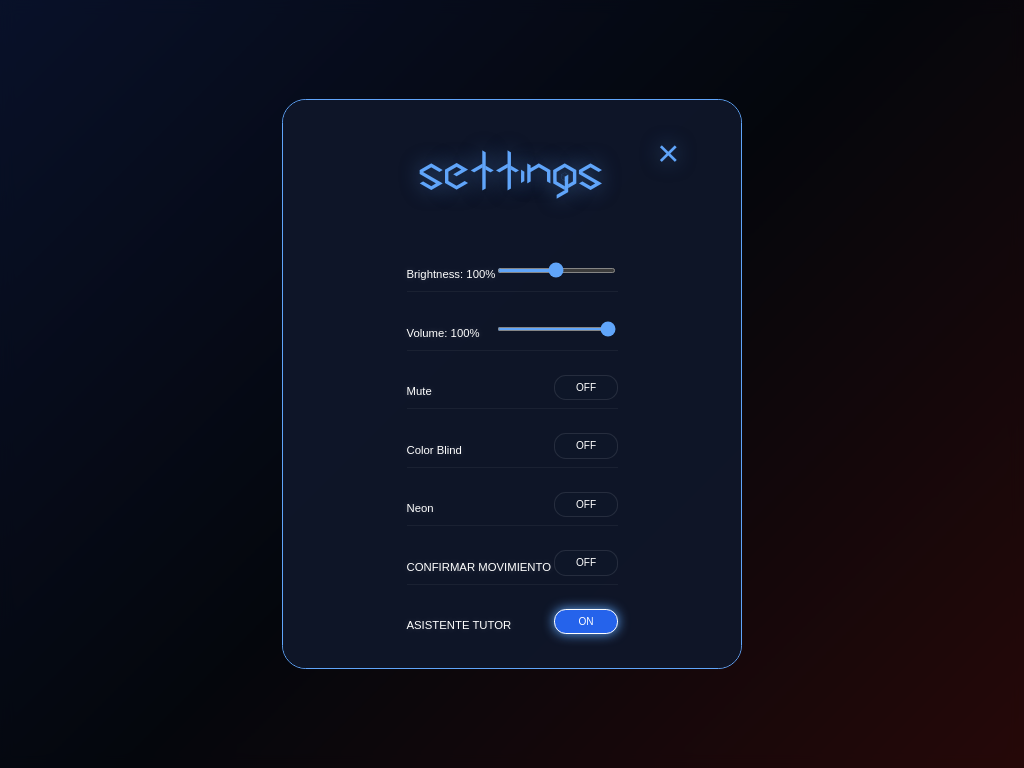
Test: SettingsModal › TEST 4: mute button toggles and disables volume slider
Note: Click to toggle Mute ON
What coordinates should you click on to do the following:
click the 1st button "OFF"
I would click on:
 (586, 387)
Its box is [554,375,618,400].
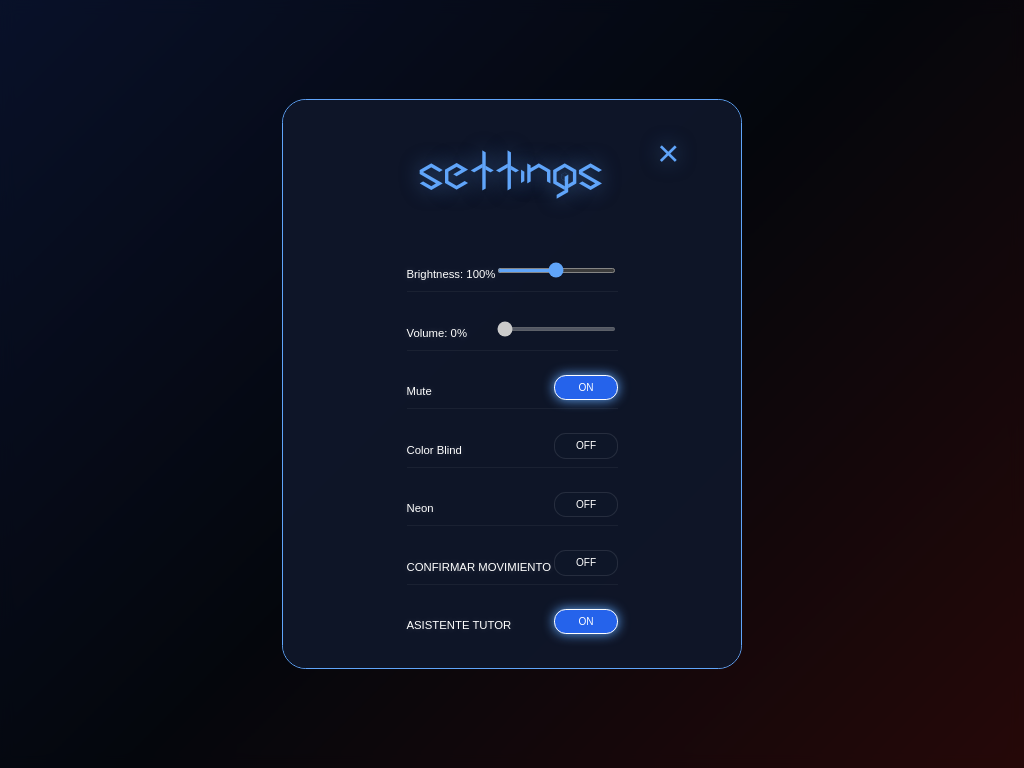
Expected: the 2nd slider is disabled, [497,326,616,331]
